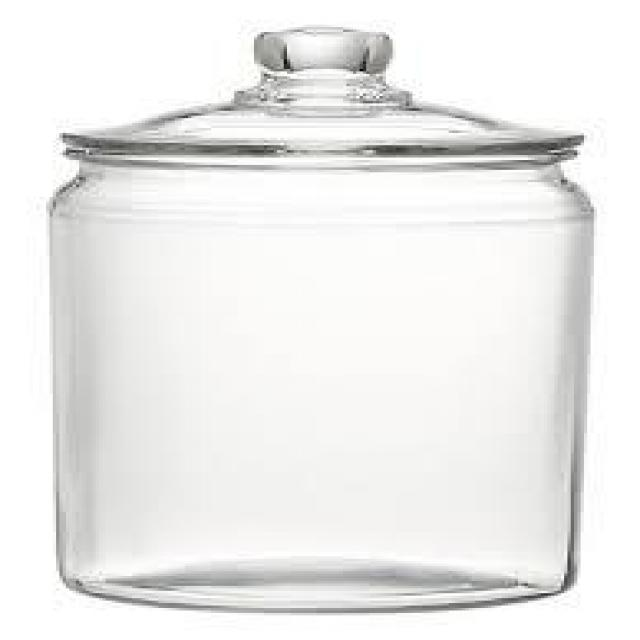non-organic waste: (43, 22, 600, 616)
